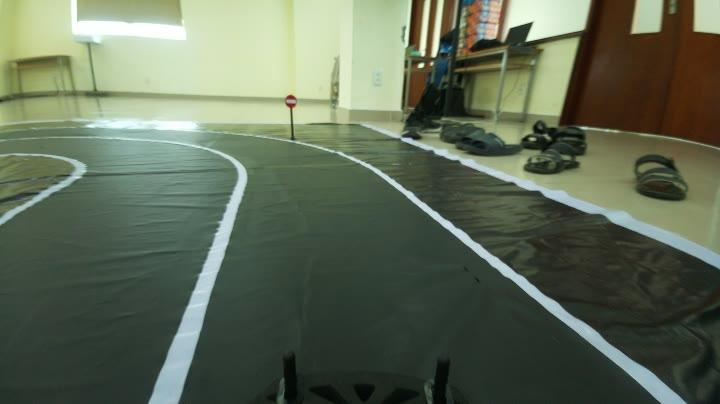no_entry: (277, 94, 300, 110)
